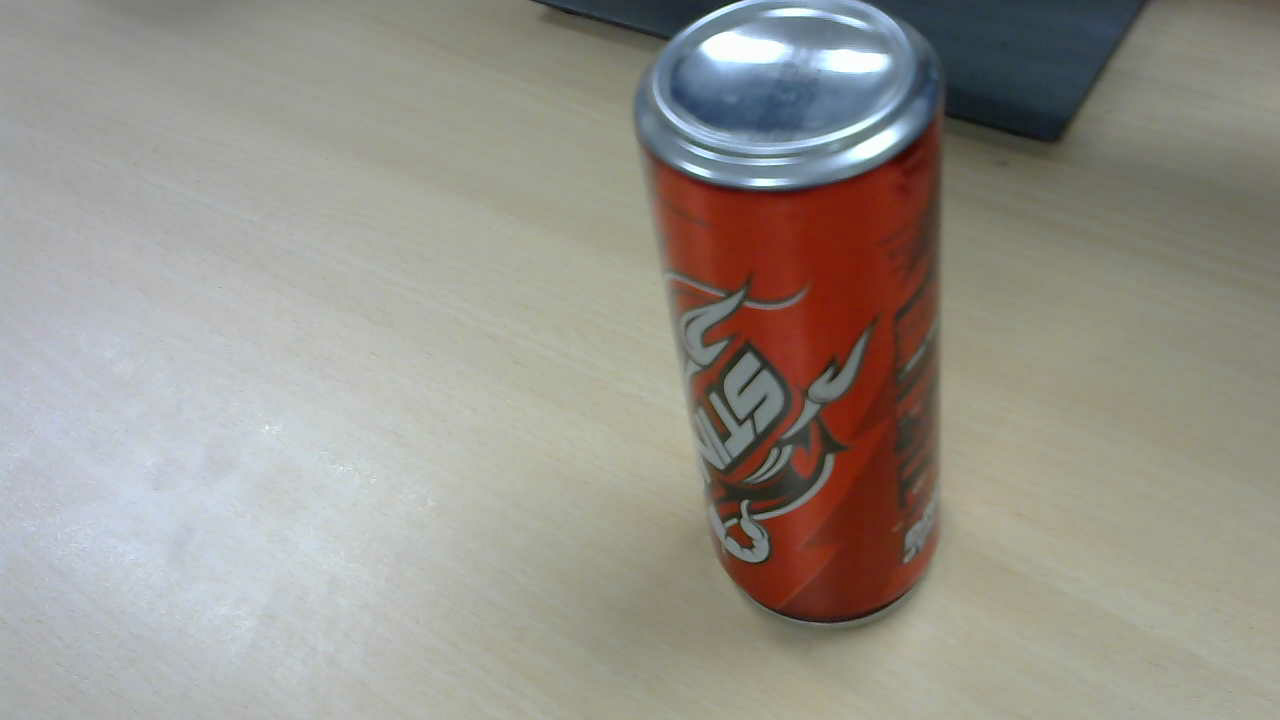Sting: (635, 6, 954, 632)
